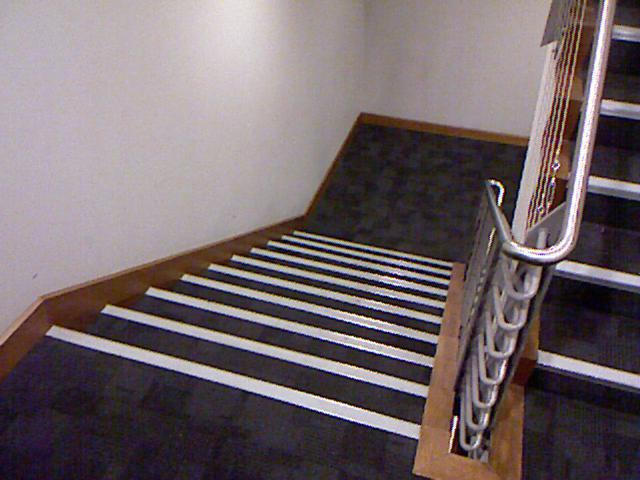Escaleras: (86, 216, 476, 452), (541, 19, 639, 446)
